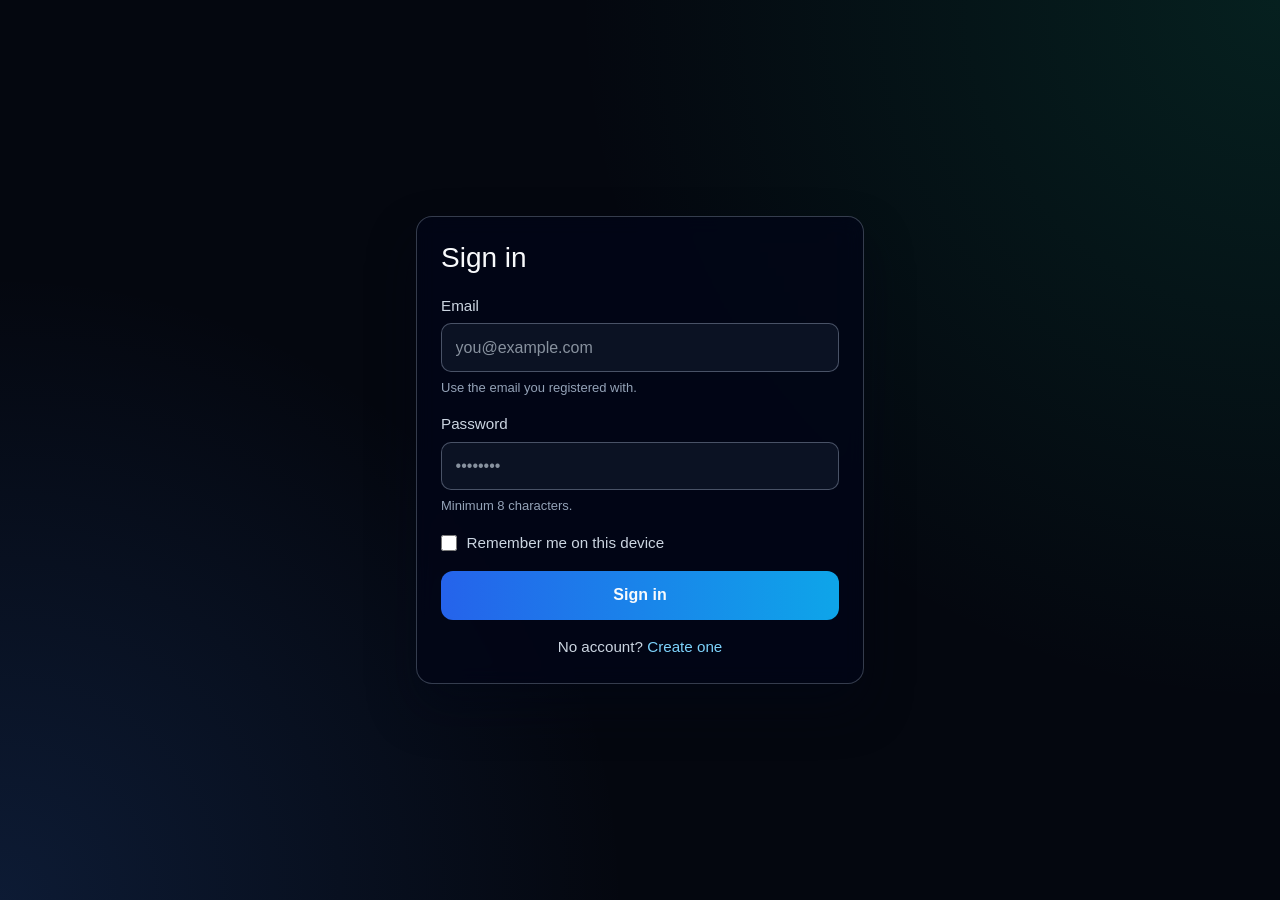
it: LoginPage › renders form and shows validation for invalid email
The width and height of the screenshot is (1280, 900).
Type "invalid-email" into the field labelled "Email" at (640, 348), box [441,323,839,372]
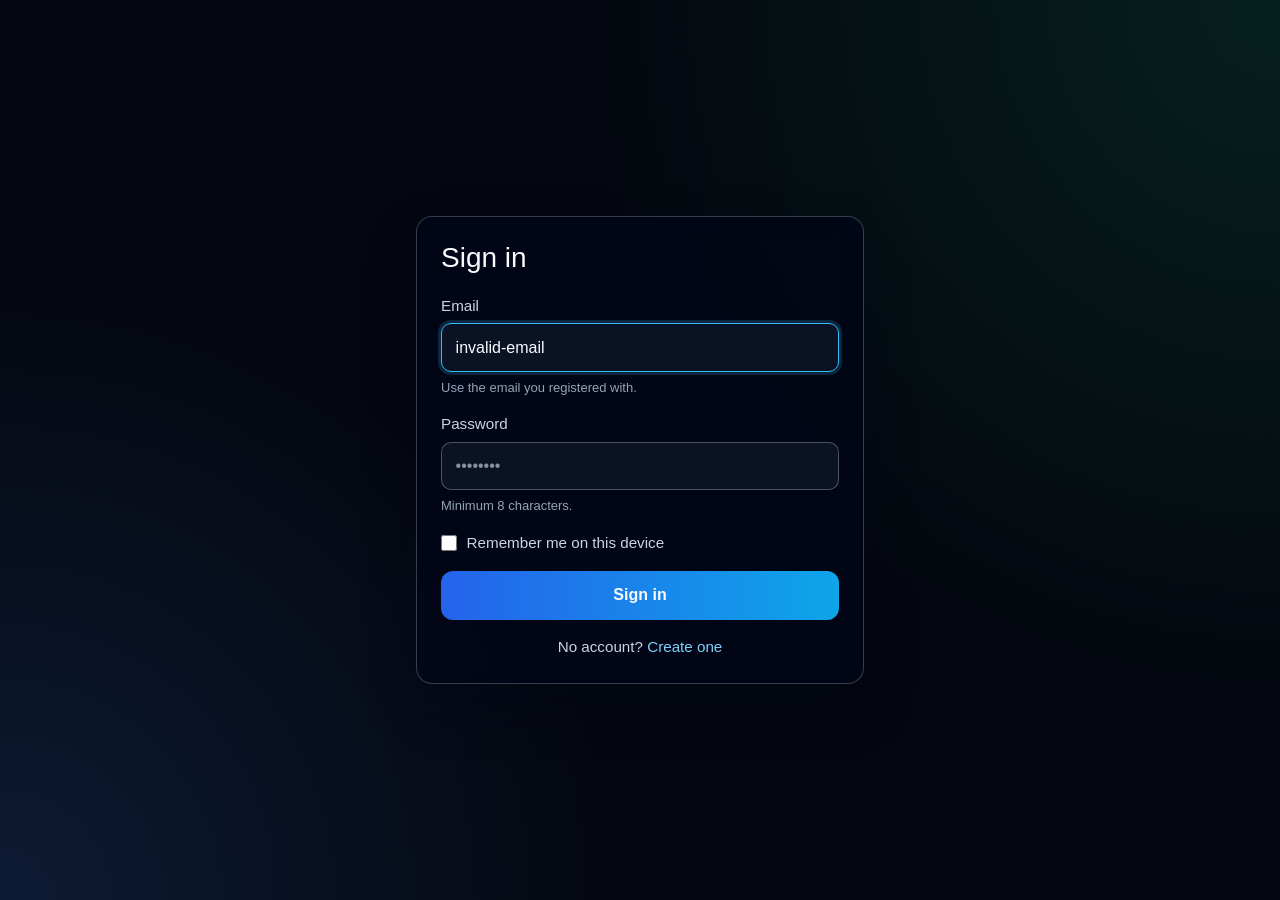
Press Tab
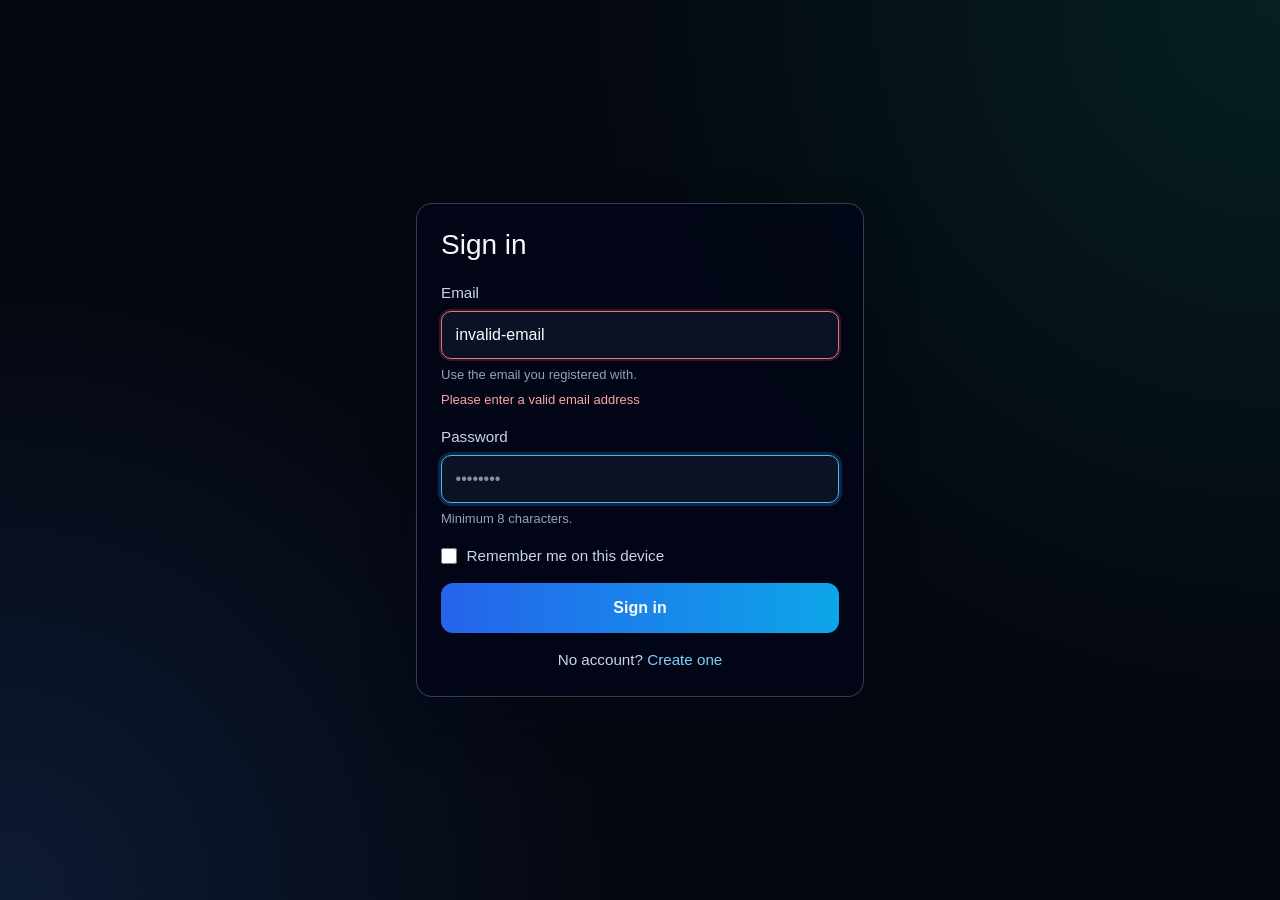
Expected: the text "Please enter a valid email address" is shown, [441,392,640,408]
